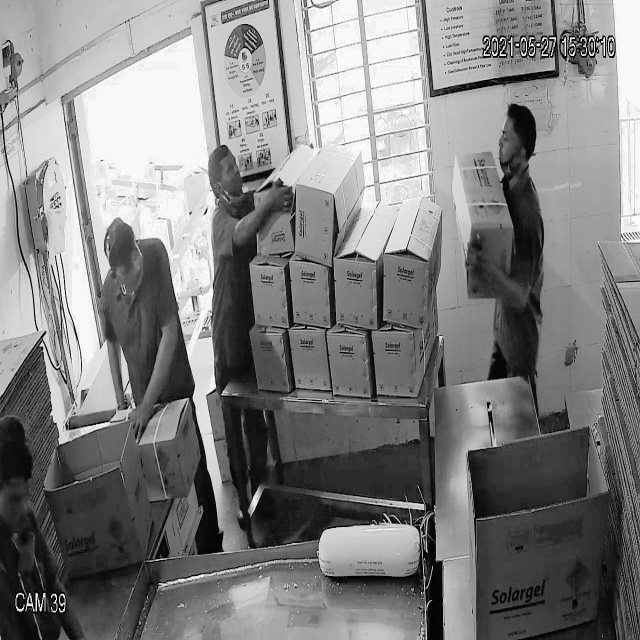Sin_gafas: (495, 124, 534, 157)
